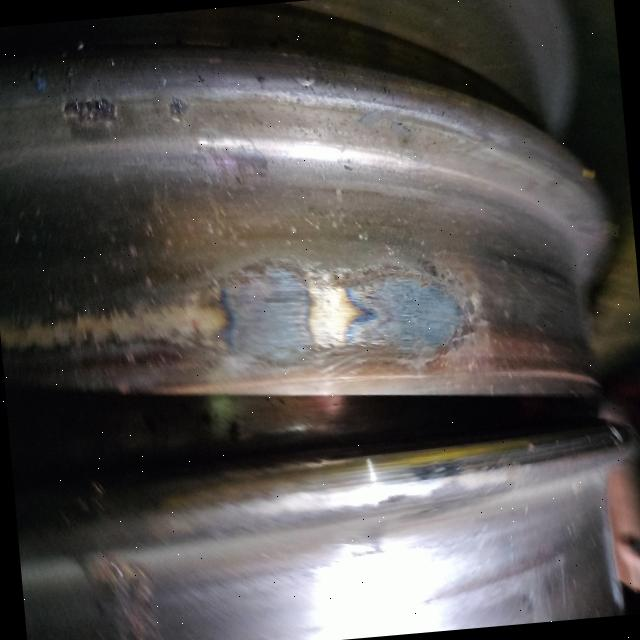flat: (164, 245, 491, 392)
